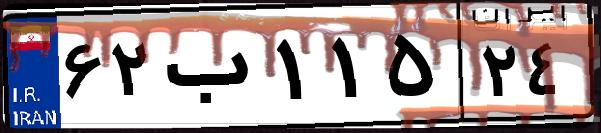1: (270, 28, 330, 110), (330, 28, 385, 110)
2: (475, 38, 525, 113), (110, 28, 158, 98)
4: (525, 38, 570, 115)
5: (385, 28, 445, 110)
6: (57, 26, 110, 100)
ب: (158, 20, 270, 120)
